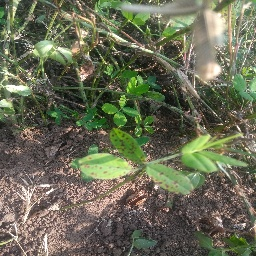GroundNut_Leaf: (78, 152, 130, 181), (109, 127, 149, 161), (148, 165, 194, 194), (184, 134, 216, 172), (101, 95, 140, 125), (226, 238, 250, 256)
